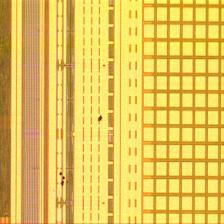PARTICLE: (57, 63, 109, 208)
